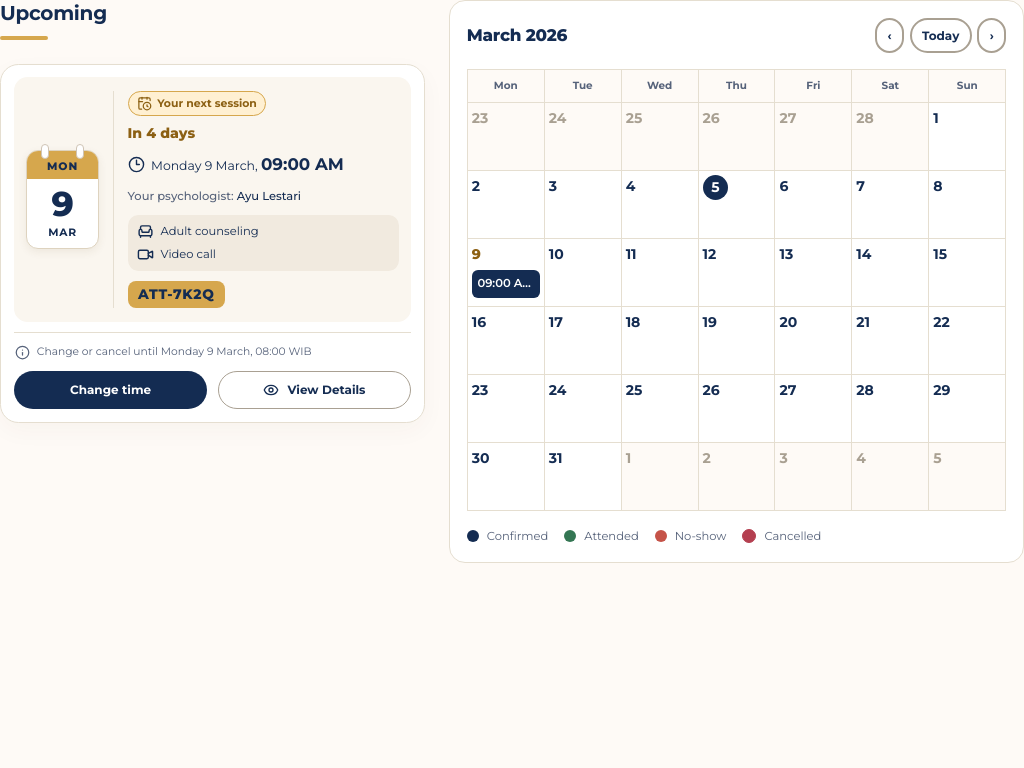
Test: shows the saved reschedule details inside the booking drawer
The image size is (1024, 768).
Click the button "View Details" at (314, 390), box [218,370,411,409]
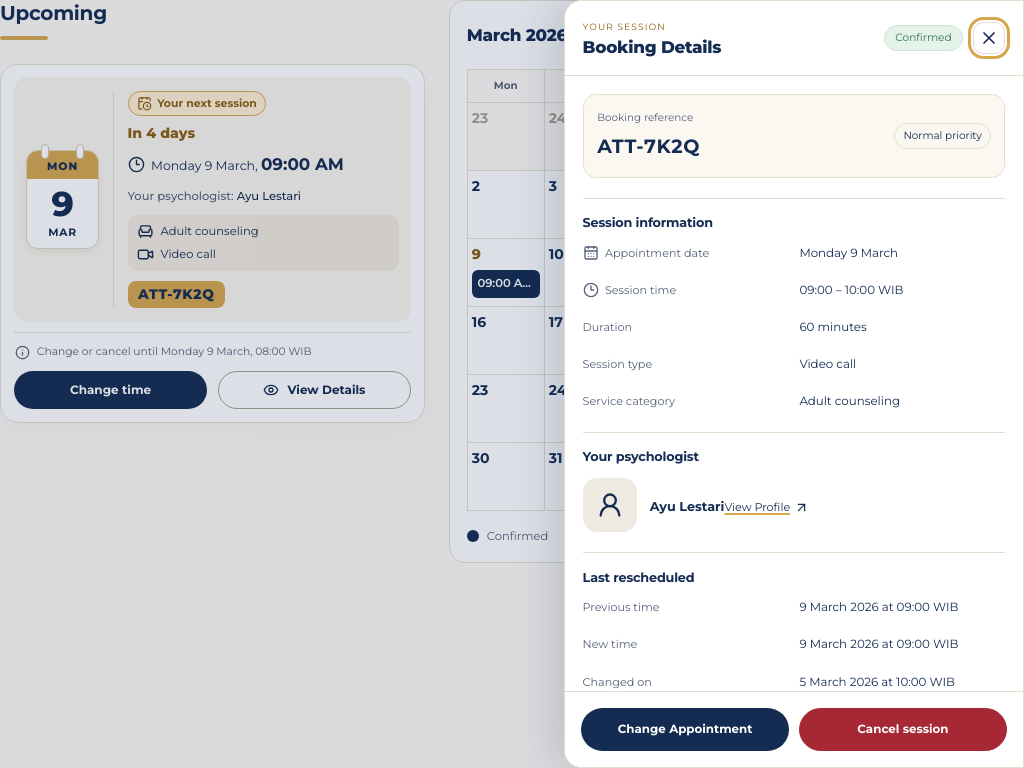
Check: the heading "Last rescheduled" is shown, box [583,570,694,585]
Check: the text "Previous time" is shown, box [583,600,660,614]
Check: the text "New time" is shown, box [583,637,637,651]
